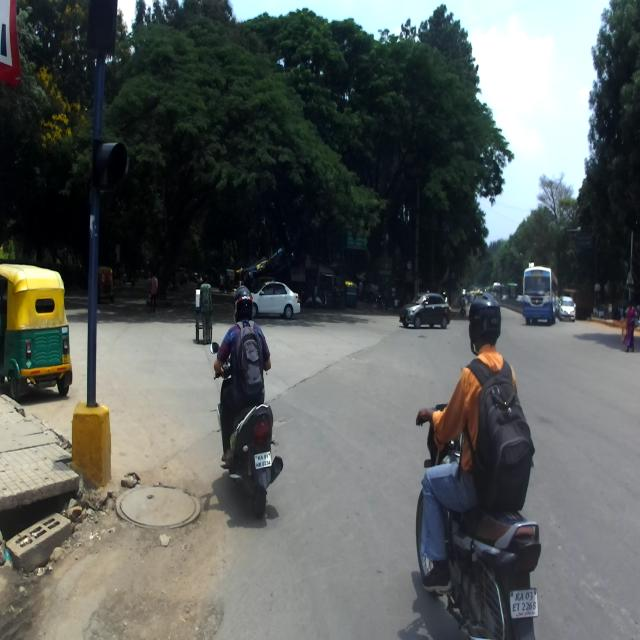auto ahead at: (0, 261, 70, 413)
motorcycle ahead at: (462, 507, 556, 640), (216, 400, 288, 520)
